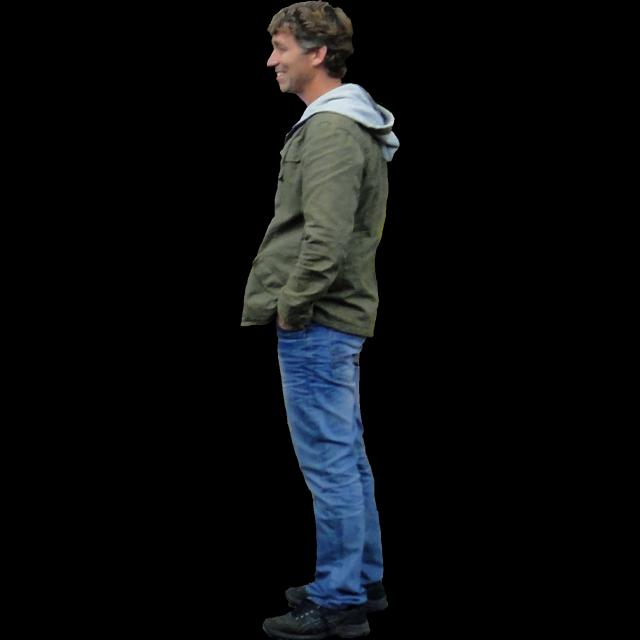adult: (236, 2, 405, 636)
